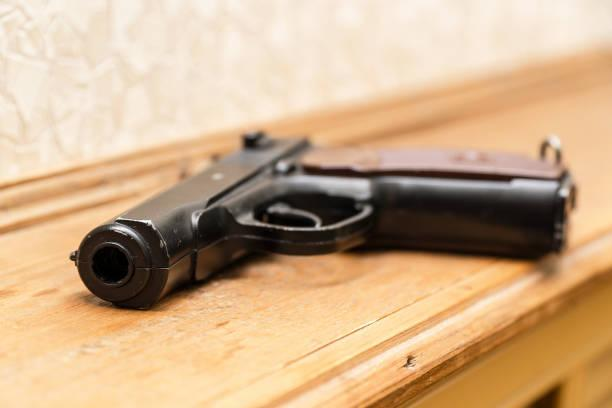weapon: (69, 128, 579, 314)
